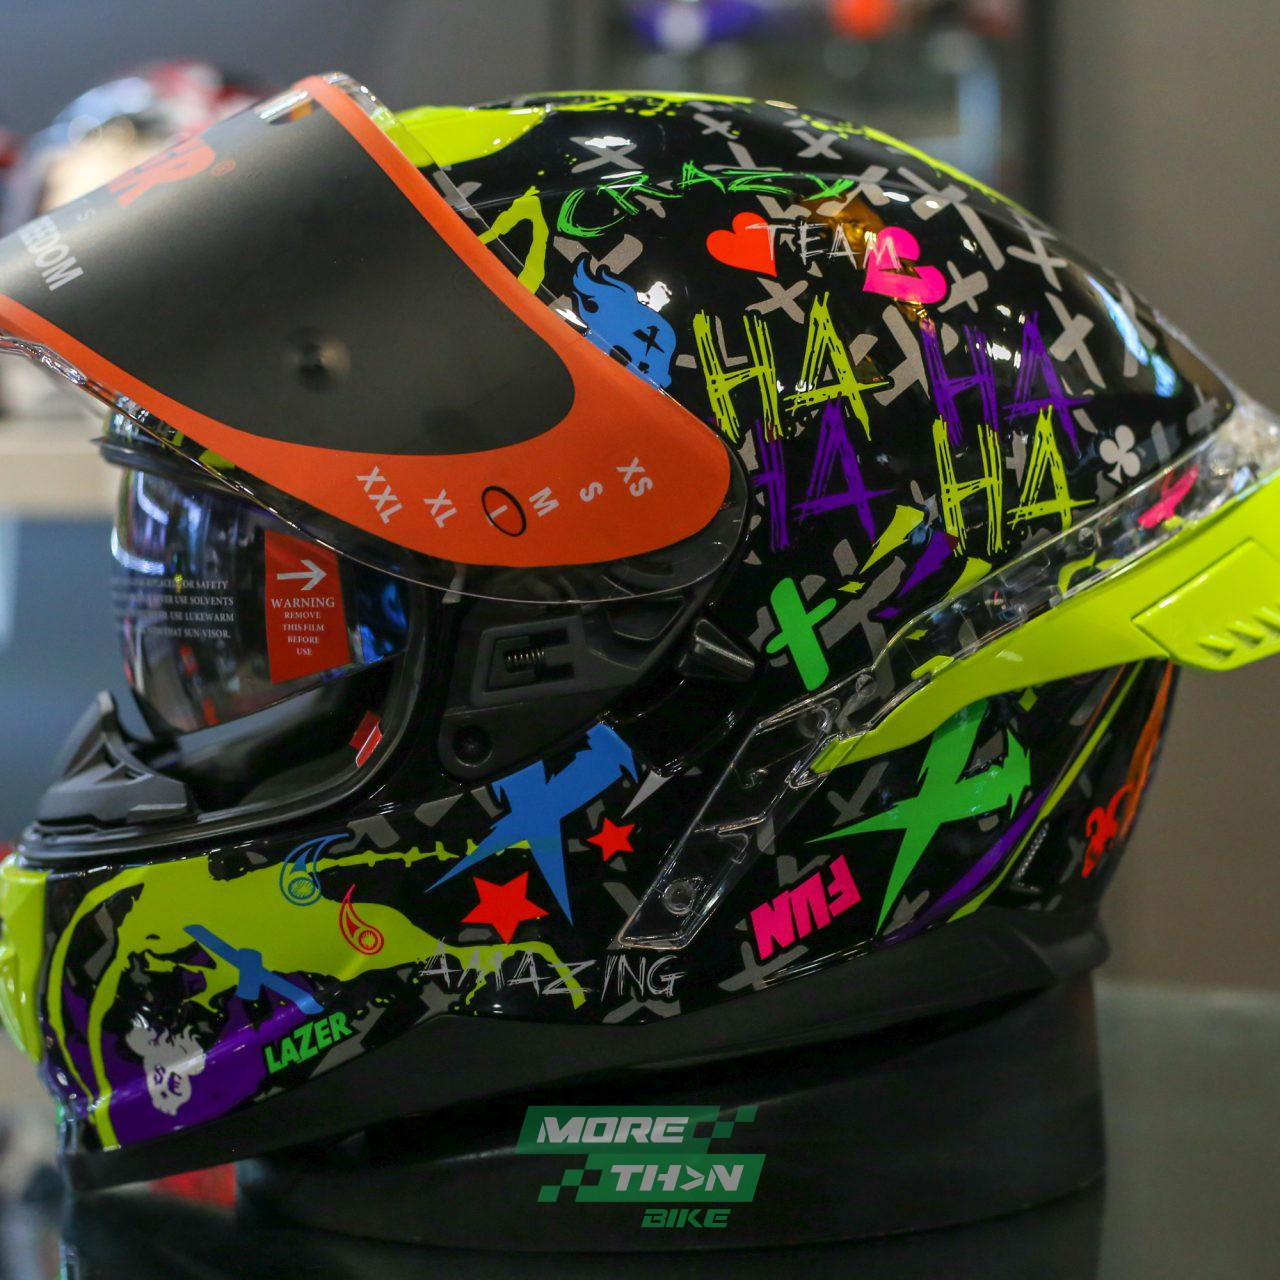helmet: (1, 70, 1280, 1194)
